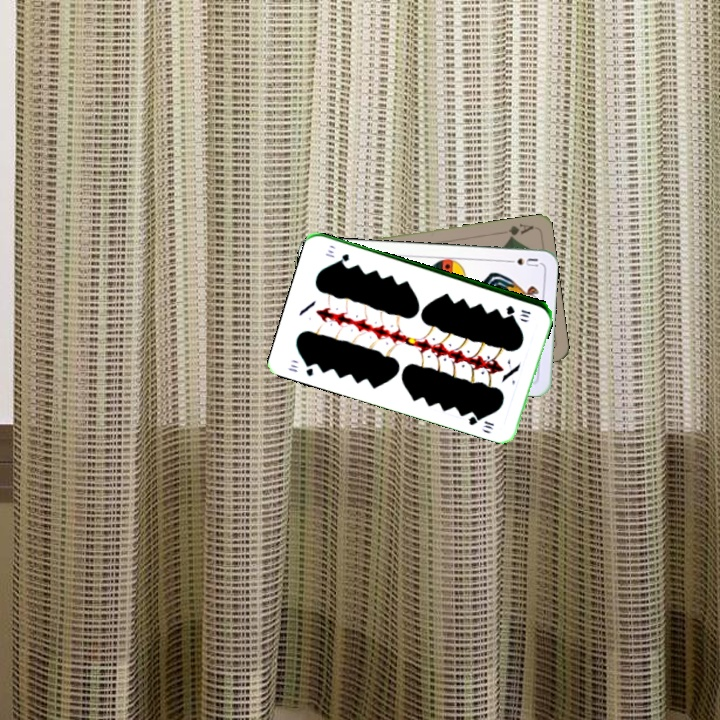G10: (284, 358, 317, 379), (502, 301, 533, 320)
GA: (496, 220, 536, 241)
SU: (501, 254, 541, 269)
